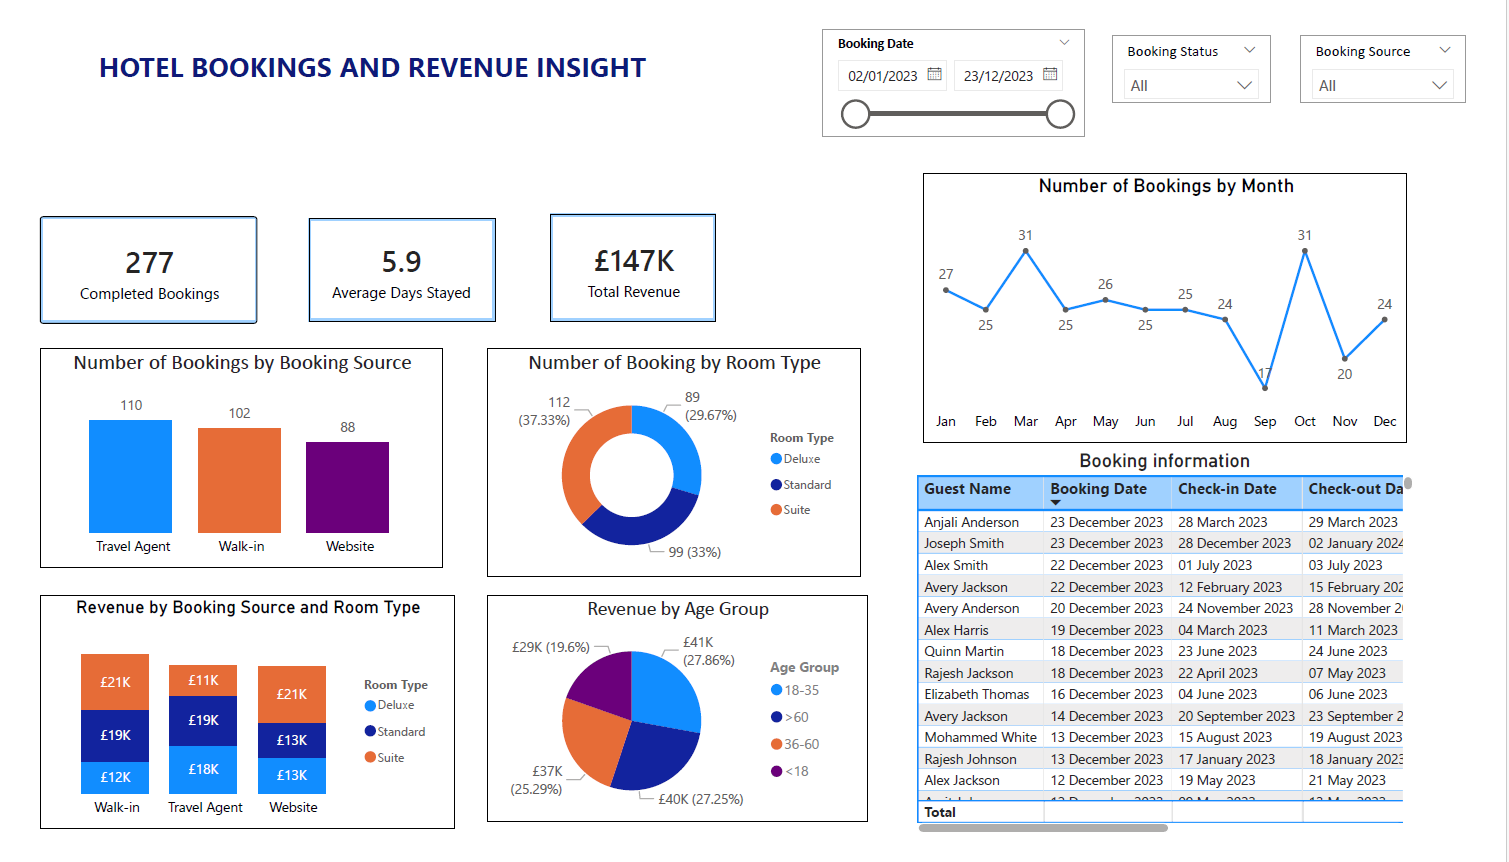

This screenshot's page, from the dashboard's own definition file:
{"tool":"powerbi","page":{"name":"Page 1","canvas":[1280,720],"ordinal":0},"visuals":[{"type":"cardVisual","fields":{"Data":["Bookings.Completed_Booking"]},"box":[11.3,171.3,192,94.7],"z":0},{"type":"cardVisual","fields":{"Data":["Bookings.AvStay_CompletedBookings"]},"box":[248,173.3,164.7,90.7],"z":1000},{"type":"cardVisual","fields":{"Data":["Bookings.Total_Revenue"]},"box":[460.7,169.3,146.7,94.7],"z":2000},{"type":"lineChart","title":"Number of Bookings by Month","fields":{"Y":["CountNonNull(Bookings.Booking ID)"],"Category":["Bookings.Booking_Month"]},"box":[790,132.7,426.7,238],"z":3000},{"type":"columnChart","title":"Number of Bookings by Booking Source","fields":{"Y":["CountNonNull(Bookings.Booking ID)"],"Category":["Bookings.Booking Source"]},"box":[11.3,286.7,356,194.7],"z":4000},{"type":"donutChart","title":"Number of Booking by Room Type","fields":{"Category":["Bookings.Room Type"],"Y":["CountNonNull(Bookings.Booking ID)"]},"box":[405.3,286.7,329.3,202.7],"z":5000},{"type":"columnChart","title":"Revenue by Booking Source and Room Type","fields":{"Y":["Sum(Bookings.Revenue Generated)"],"Category":["Bookings.Booking Source"],"Series":["Bookings.Room Type"]},"box":[11.3,505.3,366,206],"z":6000},{"type":"pieChart","title":"Revenue by Age Group","fields":{"Y":["Sum(Bookings.Revenue Generated)"],"Category":["Guests.Age Group"]},"box":[405.3,505.3,336,200],"z":7000},{"type":"tableEx","title":"Booking information","fields":{"Values":["Guests.Guest Name","Bookings.Booking Date","Bookings.Check-in Date","Bookings.Check-out Date","Bookings.Room Type","Bookings.Booking Status","Sum(Bookings.Revenue Generated)"]},"box":[779.3,376,448,344],"z":8000},{"type":"slicer","fields":{"Values":["Bookings.Booking Date"]},"box":[700.7,6,232,94.7],"z":9000},{"type":"slicer","fields":{"Values":["Bookings.Booking Source"]},"box":[1122,10.7,146.7,60.7],"z":10000},{"type":"slicer","fields":{"Values":["Bookings.Booking Status"]},"box":[956,10.7,141.3,60.7],"z":11000},{"type":"textbox","box":[44.7,28.7,425.3,33.3],"z":12000}]}

Visuals, with their boxes in screenshot pixels (x1, y1, x2, y2), scaled from the page's 1280x720 canvas onto the 1509x862 screenshot:
cardVisual - Bookings.Completed_Booking: l=13, t=205, r=240, b=318
cardVisual - Bookings.AvStay_CompletedBookings: l=292, t=207, r=487, b=316
cardVisual - Bookings.Total_Revenue: l=543, t=203, r=716, b=316
"Number of Bookings by Month" lineChart: l=931, t=159, r=1434, b=444
"Number of Bookings by Booking Source" columnChart: l=13, t=343, r=433, b=576
"Number of Booking by Room Type" donutChart: l=478, t=343, r=866, b=586
"Revenue by Booking Source and Room Type" columnChart: l=13, t=605, r=445, b=852
"Revenue by Age Group" pieChart: l=478, t=605, r=874, b=844
"Booking information" tableEx: l=919, t=450, r=1447, b=861
slicer - Bookings.Booking Date: l=826, t=7, r=1100, b=121
slicer - Bookings.Booking Source: l=1323, t=13, r=1496, b=85
slicer - Bookings.Booking Status: l=1127, t=13, r=1294, b=85
textbox: l=53, t=34, r=554, b=74
